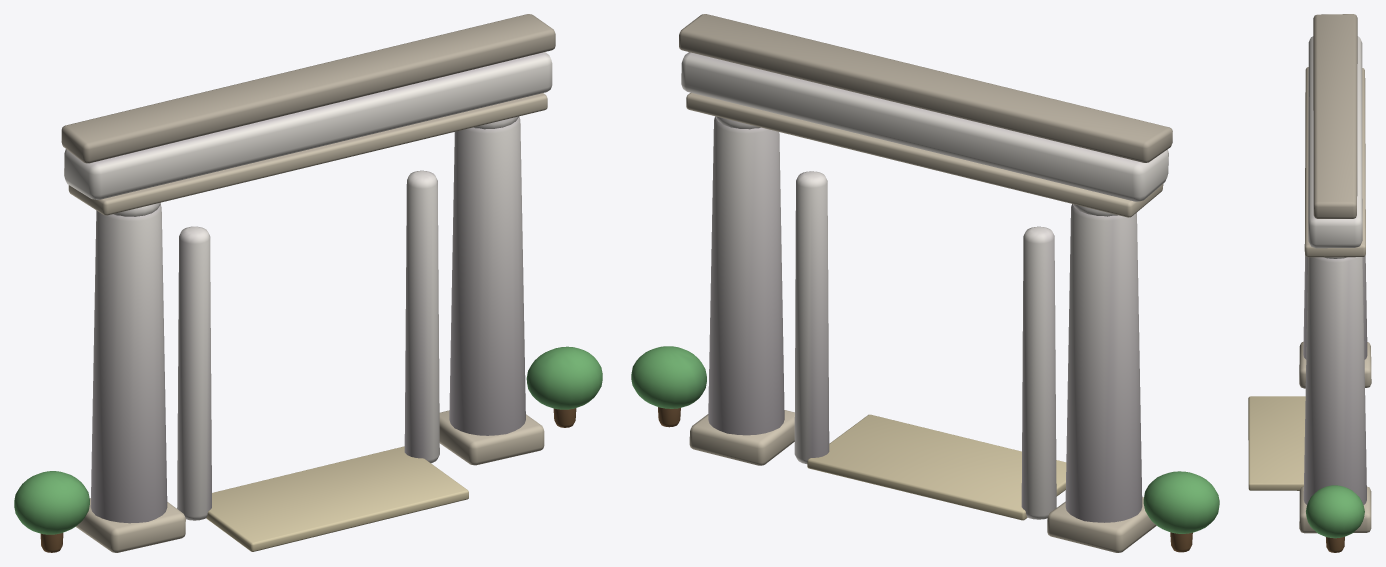
3 renders of one model, left to right at view 1: azimuth 30°, elevation 25°; view 2: azimuth 150°, elevation 25°; view 3: azimuth 270°, elevation 25°, orthographic. The views are drawn at different scales.
Parts seen in each view (by area): view 1: gate_29c813a4; view 2: gate_29c813a4; view 3: gate_29c813a4.
Boxes of the visible parts, x1,y1,x2,y2 form: gate_29c813a4: (14,14,602,552); gate_29c813a4: (631,14,1219,552); gate_29c813a4: (1248,14,1371,552).
Bounding box in the file's own units: 6.39 × 4.33 × 1.42.
